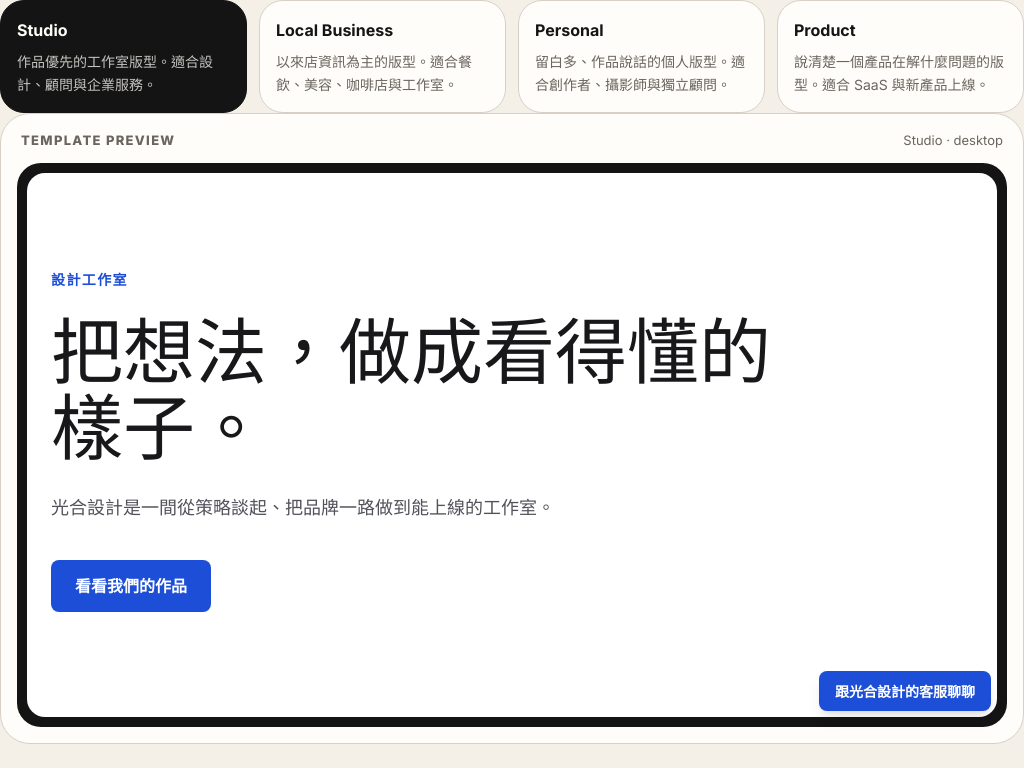
Test: Template Experience › 切換模板真的換掉了預覽的內容
The width and height of the screenshot is (1024, 768).
expect the text "光合設計" is shown: met, box [51,493,555,519]
Click the button "Local Business 以來店資訊為主的版型。適合餐飲、美容、咖啡店與工作室。" at (382, 57), box [259,0,506,113]
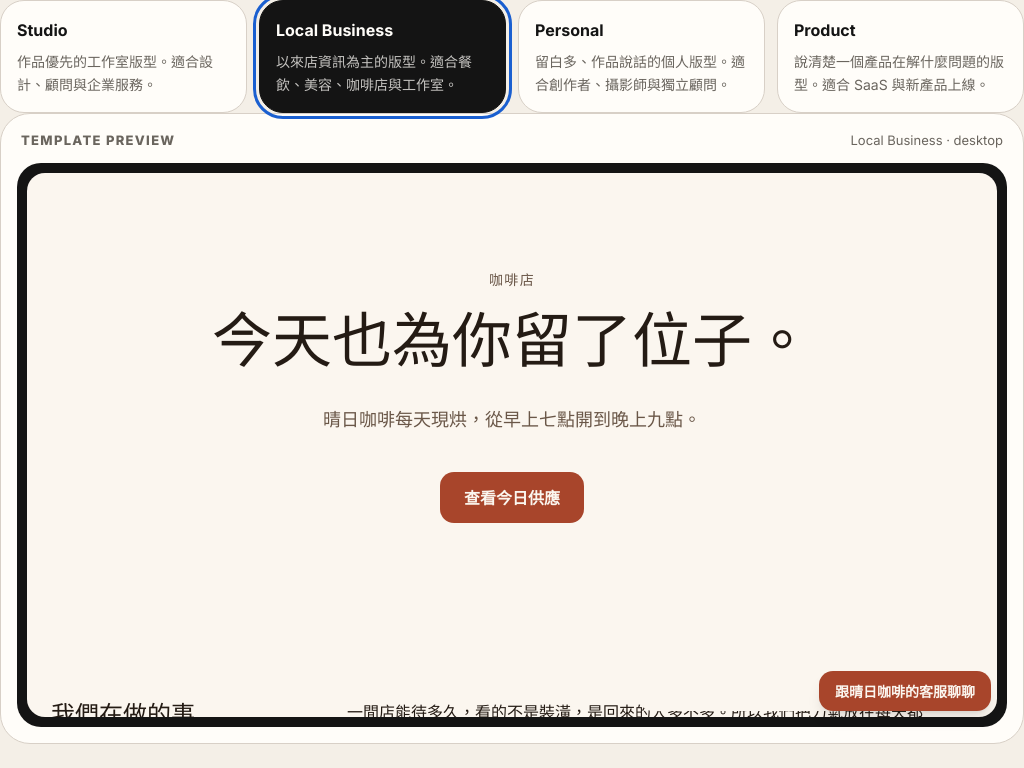
expect the text "晴日咖啡" is shown: met, box [323,405,701,431]
expect the text "光合設計" is gone: met
